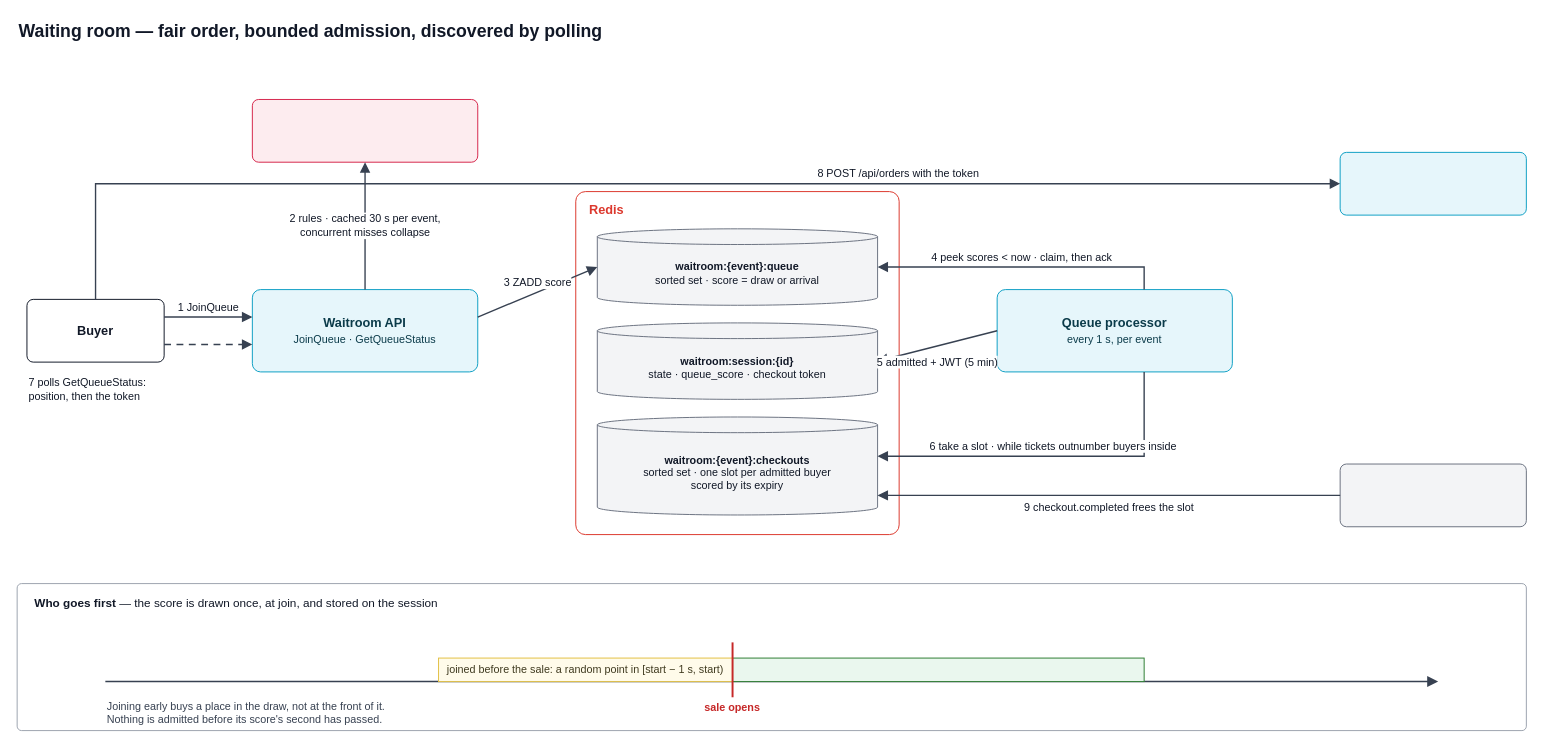
This 1544x748 diagram has some shape labels left out. Each missing label, with the centre of its shape:
Checkout → purchase saga: (1432,183)
Event service sale window · queue rules: (364,130)
joined after: arrival time: (938,669)
Kafka checkout.completed: (1432,495)
